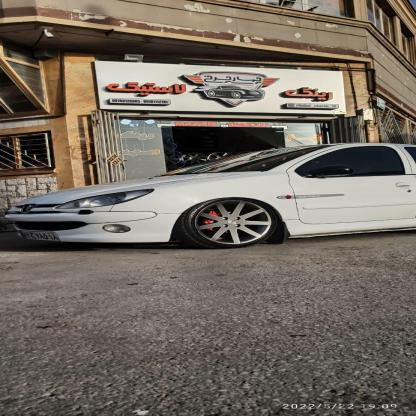Car: (0, 139, 416, 251)
